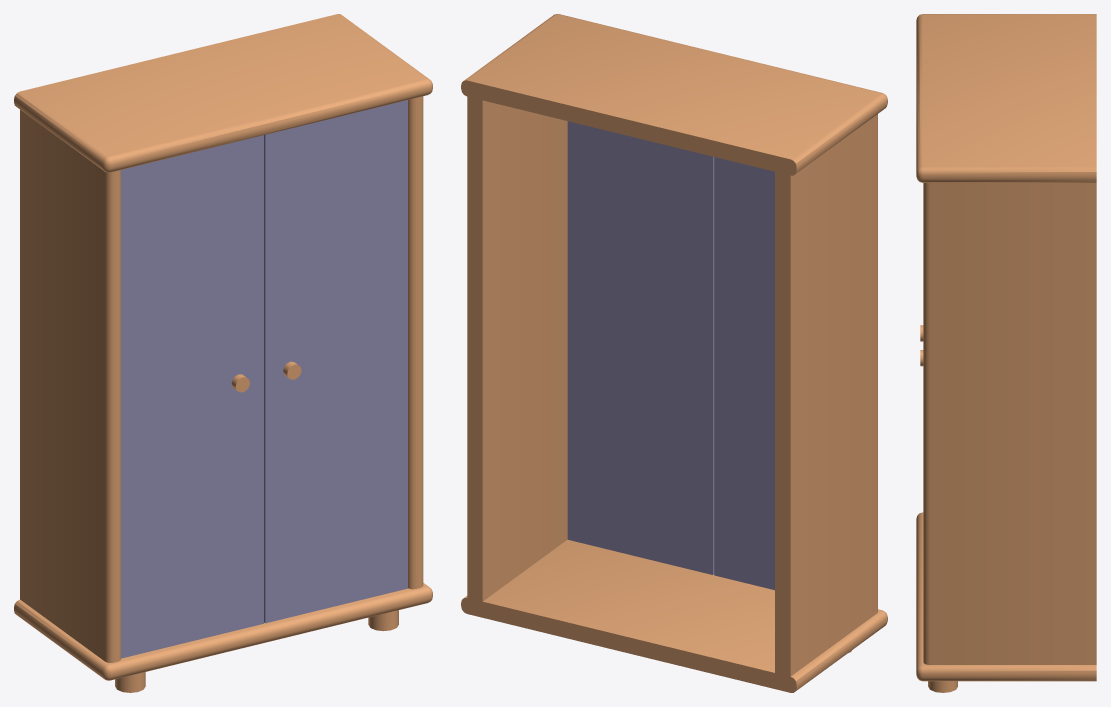
The model's file is CapBoard.fbx.
3 renders of one model, left to right at view 1: azimuth 30°, elevation 25°; view 2: azimuth 150°, elevation 25°; view 3: azimuth 270°, elevation 25°, orthographic. The views are drawn at different scales.
Visible parts, largest first — view 1: Cube.077, Cube.075, Cube.073, Cube.074; view 2: Cube.075, Cube.077, Cube.073, Cube.074; view 3: Cube.075, Cube.073, Cube.074, Cylinder.030.
Part boxes in pixels (left/top/right/bottom): Cube.077: left=121, top=100, right=407, bottom=658; Cube.075: left=20, top=96, right=423, bottom=662; Cube.073: left=14, top=14, right=432, bottom=172; Cube.074: left=14, top=583, right=432, bottom=680; Cube.075: left=467, top=91, right=877, bottom=678; Cube.077: left=567, top=121, right=774, bottom=590; Cube.073: left=461, top=14, right=887, bottom=175; Cube.074: left=461, top=539, right=887, bottom=692; Cube.075: left=923, top=183, right=1096, bottom=664; Cube.073: left=916, top=14, right=1096, bottom=182; Cube.074: left=916, top=512, right=1096, bottom=681; Cylinder.030: left=928, top=681, right=957, bottom=692.
Size of the model in its own units: 57.01 by 90.22 by 27.55.
